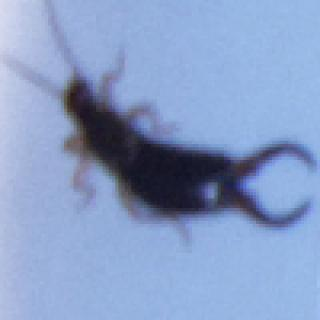earwig: (0, 0, 317, 253)
